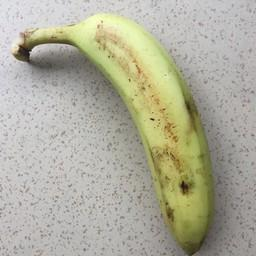Good_banana: (11, 1, 211, 256)
